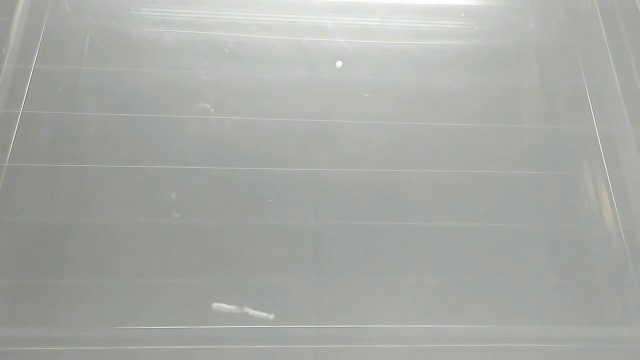alpha: (208, 297, 276, 327), (329, 56, 349, 73)
